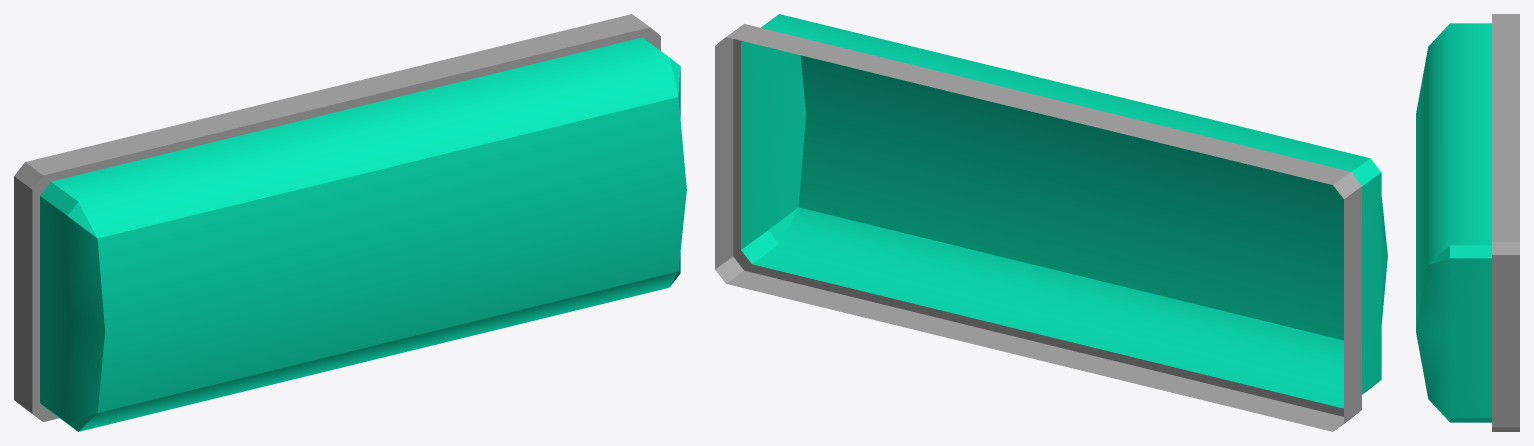
Rendered from Emergency Light.fbx.
The picture shows the model from 3 angles, left to right: view 1: azimuth 30°, elevation 25°; view 2: azimuth 150°, elevation 25°; view 3: azimuth 270°, elevation 25°; orthographic projection. The views are drawn at different scales.
Parts seen in each view (by area): view 1: pCube1; view 2: pCube1; view 3: pCube1.
Boxes of the visible parts, <box> form: pCube1: <box>14,14,686,431</box>; pCube1: <box>715,14,1387,431</box>; pCube1: <box>1416,14,1519,431</box>.
Bounding box in the file's own units: 40 × 15 × 7.44.
